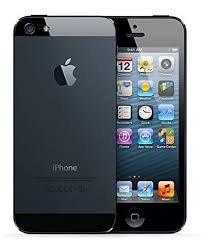iphone: (10, 12, 118, 235)
iphone5: (8, 9, 187, 234), (10, 14, 118, 237)
